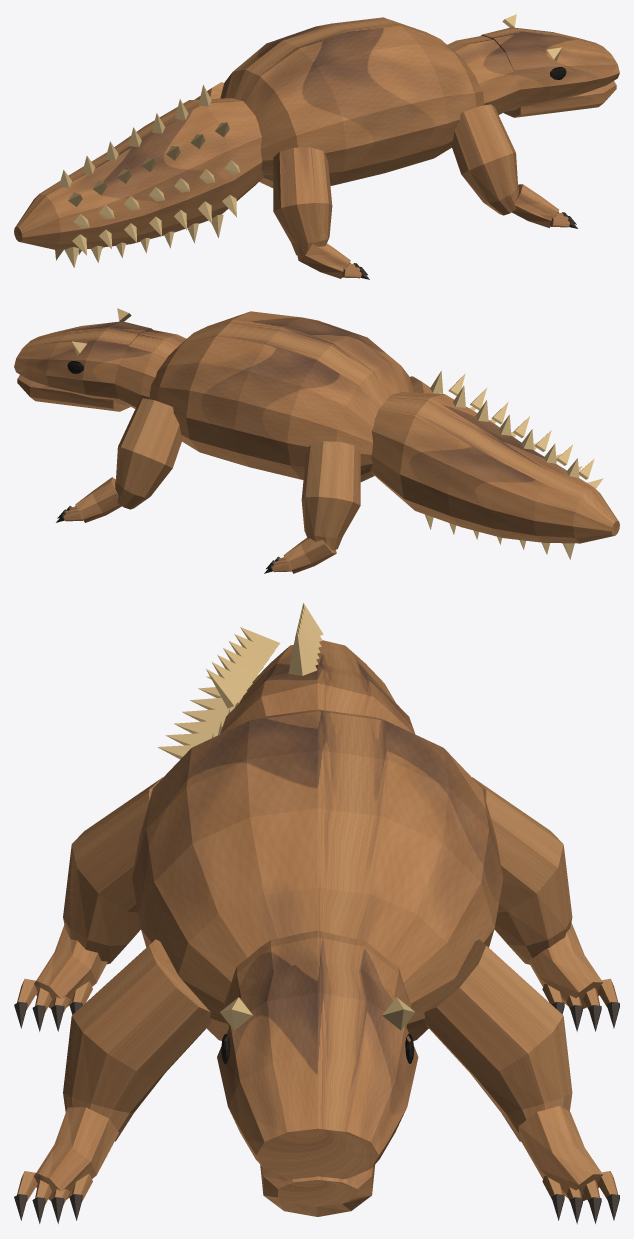
The model's file is caudraco-v01-textured-blockout.glb.
The picture shows the model from 3 angles, top to bottom: view 1: azimuth 30°, elevation 25°; view 2: azimuth 150°, elevation 25°; view 3: azimuth 270°, elevation 25°; orthographic projection. The views are drawn at different scales.
Visible parts, largest first — view 1: caudraco_root; view 2: caudraco_root; view 3: caudraco_root.
Part boxes in pixels (left/top/right/bottom): caudraco_root: left=14, top=14, right=619, bottom=279; caudraco_root: left=14, top=308, right=619, bottom=573; caudraco_root: left=14, top=603, right=619, bottom=1224.
Size of the model in its own units: 1.04 by 0.2994 by 0.4931.
Materials: 1 (1 with a texture image).
